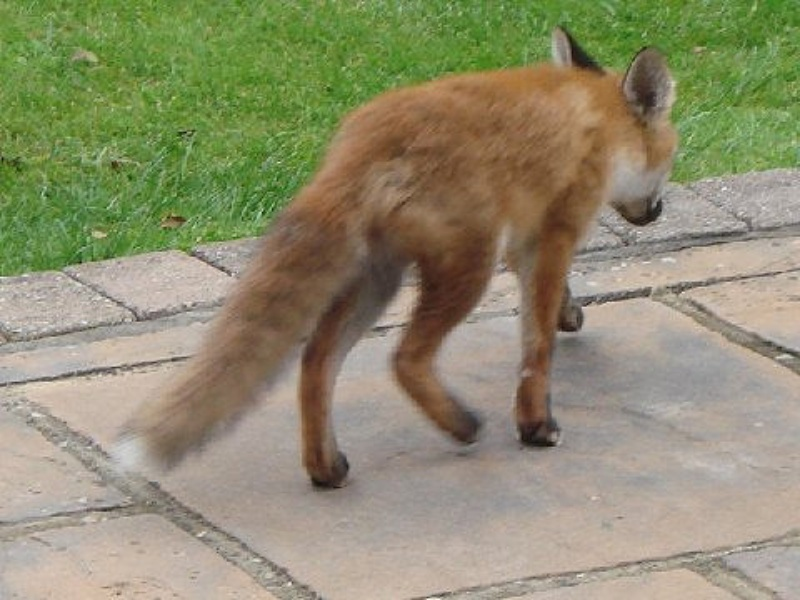fox: (102, 23, 693, 512)
